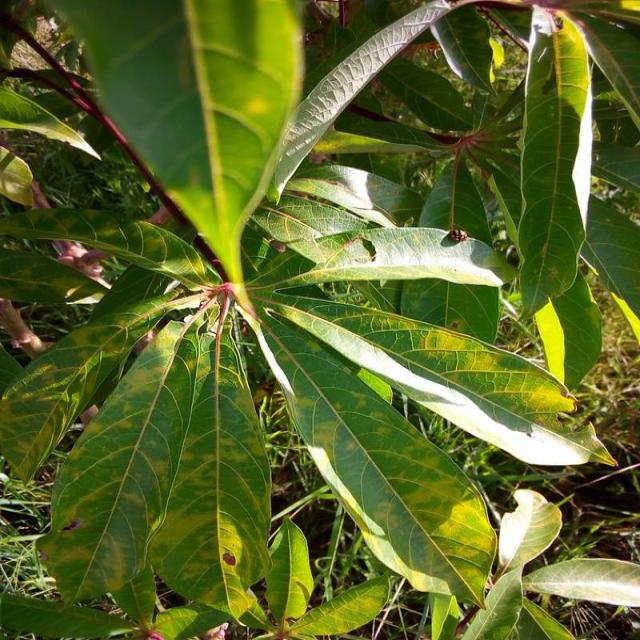cassava leaf: (2, 1, 634, 635), (36, 314, 272, 630), (257, 304, 498, 611), (515, 6, 593, 321)
